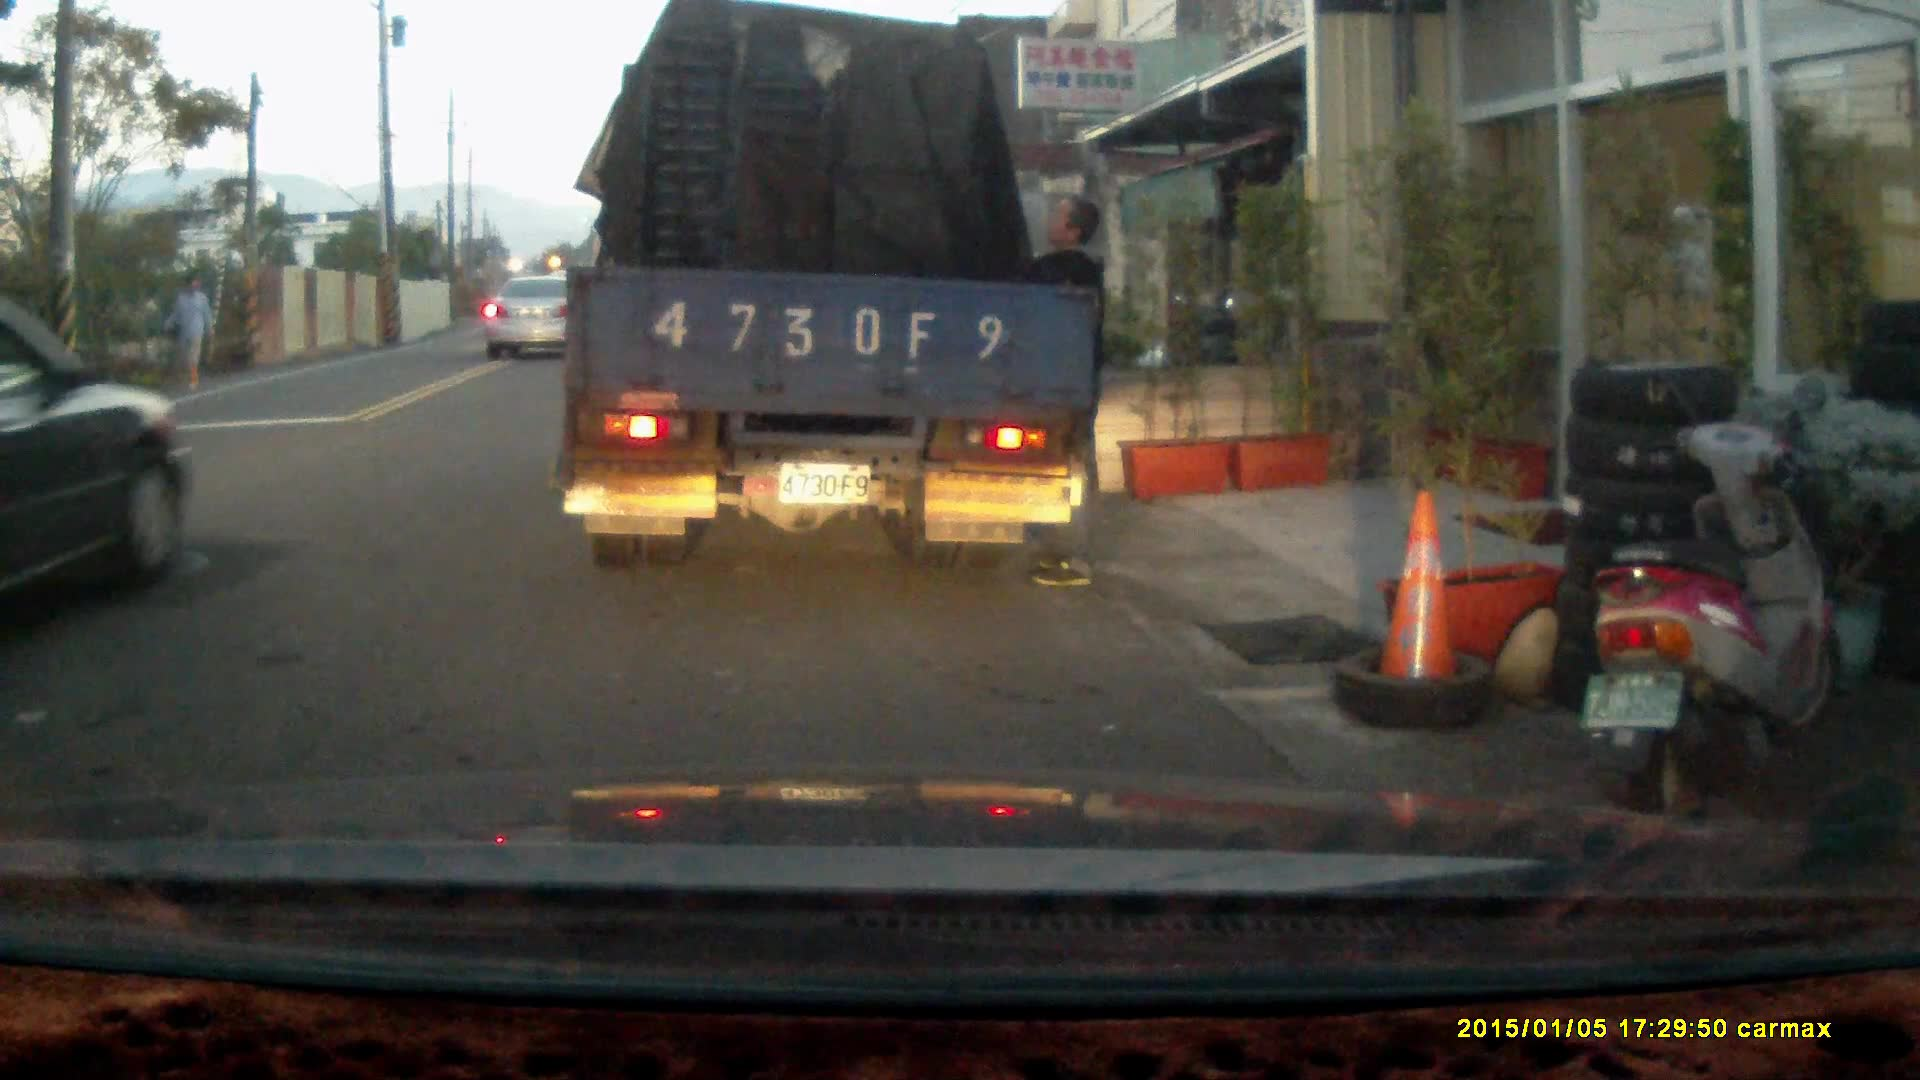pedestrian: (1005, 194, 1107, 587), (167, 270, 215, 389)
vehicle: (565, 23, 1097, 572), (1, 301, 195, 646), (483, 269, 593, 359)
